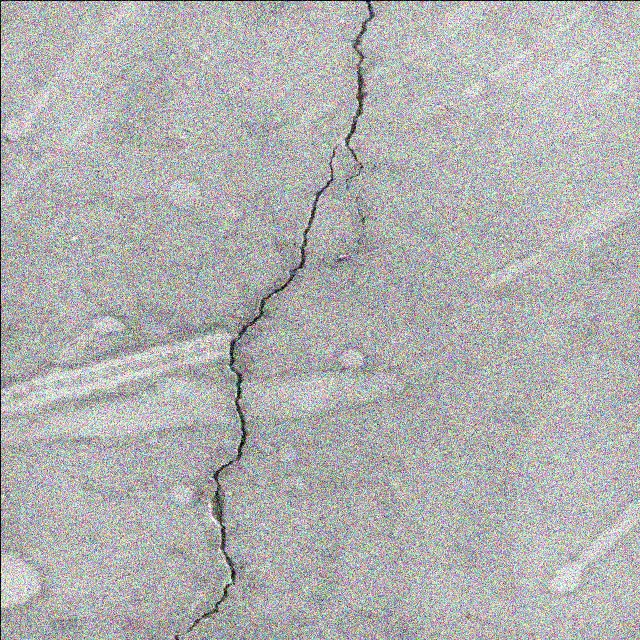SurfaceCrack: (148, 0, 406, 639)
